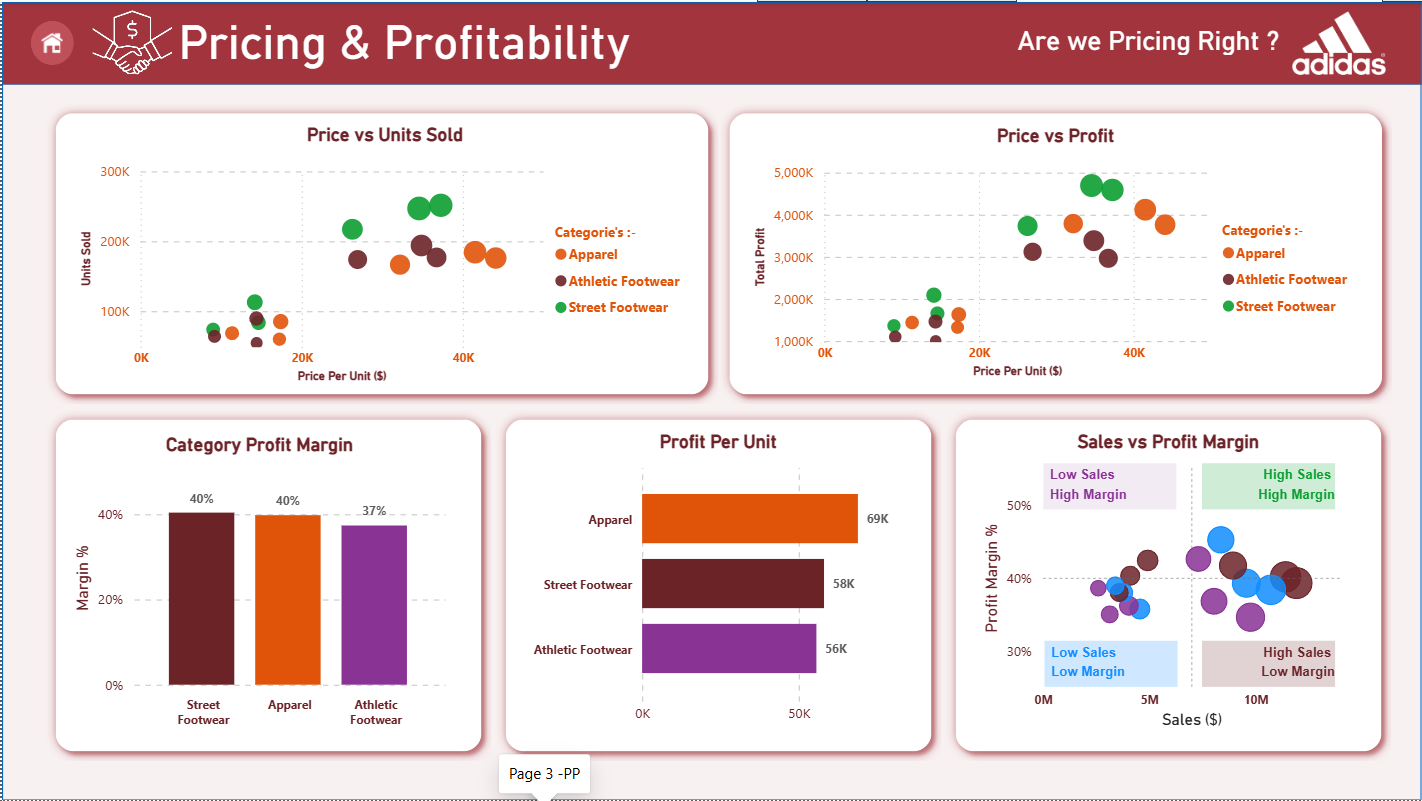

The page's visual inventory and layout, read from the dashboard file:
{"tool":"powerbi","page":{"name":"Page 3 -PP","canvas":[1280,720],"ordinal":3},"visuals":[{"type":"shape","box":[0,0,1280,720],"z":0},{"type":"shape","box":[0,0,1280.3,74.6],"z":1000},{"type":"textbox","box":[154.7,7,644.3,60],"z":2000},{"type":"textbox","box":[897.1,15.7,260,44.3],"z":3000},{"type":"image","box":[74,2.6,88.3,70],"z":4000},{"type":"image","box":[1157.1,2.9,95.7,67.1],"z":5000},{"type":"shape","box":[40,91.8,606.4,271.4],"z":6000},{"type":"shape","box":[646.4,91.8,606.4,271.4],"z":7000},{"type":"shape","box":[40,367.1,401.8,317.1],"z":8000},{"type":"shape","box":[445.5,367.1,401.8,317.1],"z":9000},{"type":"shape","box":[851.1,367.1,401.8,317.1],"z":10000},{"type":"scatterChart","title":"Price vs Units Sold","fields":{"Category":["public customer.retailer"],"Series":["public customer.product_category"],"Size":["Sum(public customer.total_sales)"],"X":["Sum(public customer.price_per_unit)"],"Y":["public customer.Units Sold"]},"box":[65.7,109.3,560,238.6],"z":11000},{"type":"scatterChart","title":"Price vs Profit","fields":{"Category":["public customer.retailer"],"Series":["public customer.product_category"],"Size":["Sum(public customer.total_sales)"],"X":["Sum(public customer.price_per_unit)"],"Y":["public customer.Total Profit"]},"box":[673,110,554.3,232.9],"z":12000},{"type":"columnChart","title":"Category Profit Margin","fields":{"Category":["public customer.product_category"],"Y":["public customer.Profit Margin %"]},"box":[60,388.3,345,273.3],"z":13000},{"type":"barChart","title":"Profit Per Unit","fields":{"Category":["public customer.product_category"],"Y":["Sum(public customer.profit_per_unit)"]},"box":[473,387,345,273],"z":14000},{"type":"scatterChart","title":"Sales vs Profit Margin","fields":{"Category":["public customer.retailer"],"Series":["public customer.product_category"],"Size":["Sum(public customer.total_sales)"],"X":["DateTable.Total Sales"],"Y":["public customer.Profit Margin %"]},"box":[879,387,345,273],"z":15000},{"type":"textbox","box":[939.4,416.2,120,41.2],"z":16000},{"type":"textbox","box":[1081.9,415.6,120,41.2],"z":17000},{"type":"textbox","box":[940,576.3,120,41.2],"z":18000},{"type":"textbox","box":[1082.5,575.7,120,41.2],"z":19000},{"type":"actionButton","box":[25.6,16.7,38.9,40],"z":20000}]}

Visuals, with their boxes in screenshot pixels (x1, y1, x2, y2), scaled from the page's 1280x720 canvas onto the 1422x801 screenshot:
shape: bbox=[0, 0, 1421, 800]
shape: bbox=[0, 0, 1421, 83]
textbox: bbox=[172, 8, 888, 75]
textbox: bbox=[997, 17, 1285, 67]
image: bbox=[82, 3, 180, 81]
image: bbox=[1285, 3, 1392, 78]
shape: bbox=[44, 102, 718, 404]
shape: bbox=[718, 102, 1392, 404]
shape: bbox=[44, 408, 491, 761]
shape: bbox=[495, 408, 941, 761]
shape: bbox=[946, 408, 1392, 761]
"Price vs Units Sold" scatterChart: bbox=[73, 122, 695, 387]
"Price vs Profit" scatterChart: bbox=[748, 122, 1363, 381]
"Category Profit Margin" columnChart: bbox=[67, 432, 450, 736]
"Profit Per Unit" barChart: bbox=[525, 431, 909, 734]
"Sales vs Profit Margin" scatterChart: bbox=[977, 431, 1360, 734]
textbox: bbox=[1044, 463, 1177, 509]
textbox: bbox=[1202, 462, 1335, 508]
textbox: bbox=[1044, 641, 1178, 687]
textbox: bbox=[1203, 640, 1336, 686]
actionButton: bbox=[28, 19, 72, 63]
